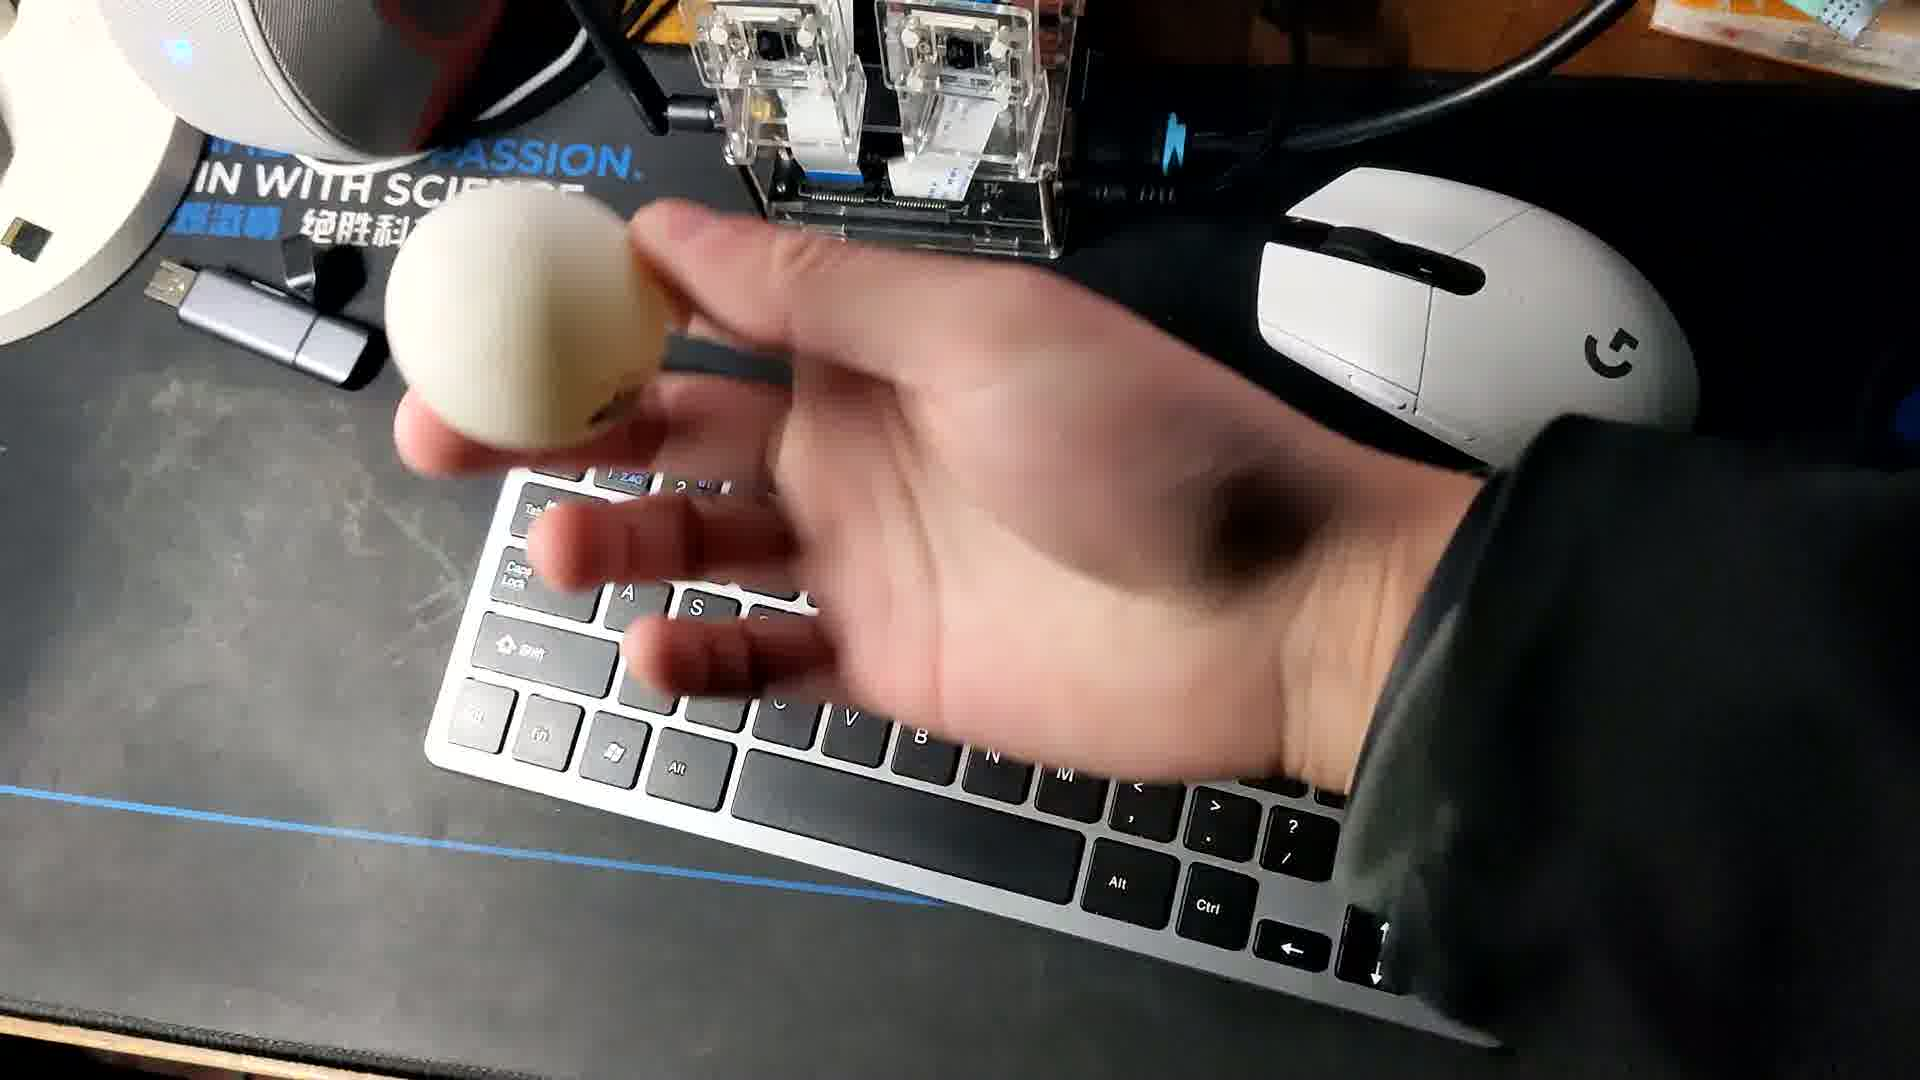Ball: (392, 186, 665, 447)
